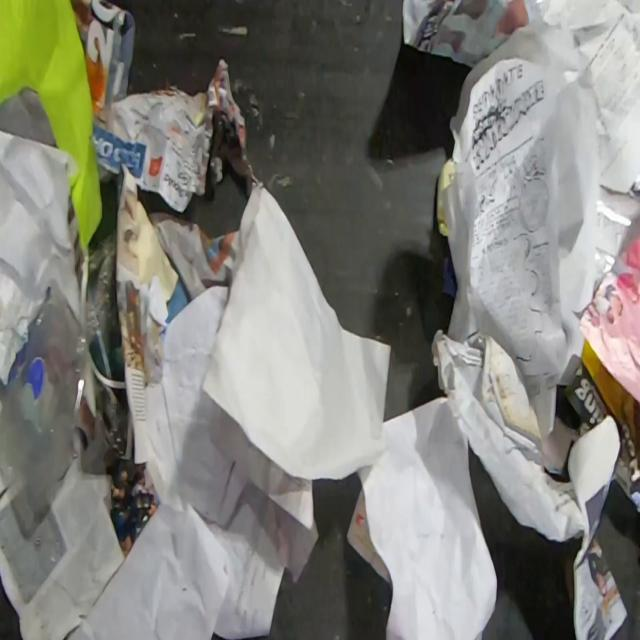cardboard: (0, 0, 103, 260), (564, 338, 640, 514)
rigid_plastic: (0, 277, 91, 540)
